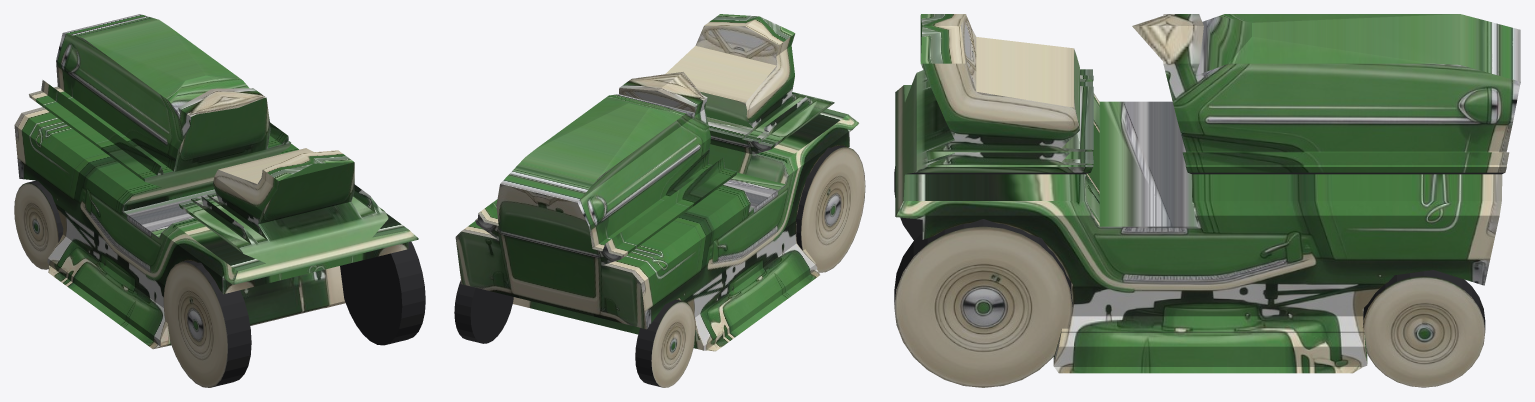
File: riding_mower.glb
3 views of the same model, side by side, from view 1: azimuth 30°, elevation 25°; view 2: azimuth 150°, elevation 25°; view 3: azimuth 270°, elevation 25° (orthographic). The views are drawn at different scales.
Visible parts, largest first — view 1: riding_mower, wheel_BL, wheel_BR, wheel_FL; view 2: riding_mower, wheel_BL, wheel_FL, wheel_FR; view 3: riding_mower, wheel_BR, wheel_FR.
Boxes of the visible parts, x1,y1,x2,y2 form: riding_mower: [14, 14, 418, 349]; wheel_BL: [163, 260, 251, 387]; wheel_BR: [340, 241, 425, 345]; wheel_FL: [14, 180, 63, 269]; riding_mower: [455, 14, 858, 351]; wheel_BL: [796, 145, 865, 272]; wheel_FL: [635, 299, 695, 387]; wheel_FR: [454, 280, 513, 343]; riding_mower: [895, 14, 1520, 373]; wheel_BR: [894, 219, 1072, 387]; wheel_FR: [1362, 270, 1485, 387].
Bounding box in the file's own units: 1.05 × 0.9293 × 1.8.
Materials: 3 (1 with a texture image).
